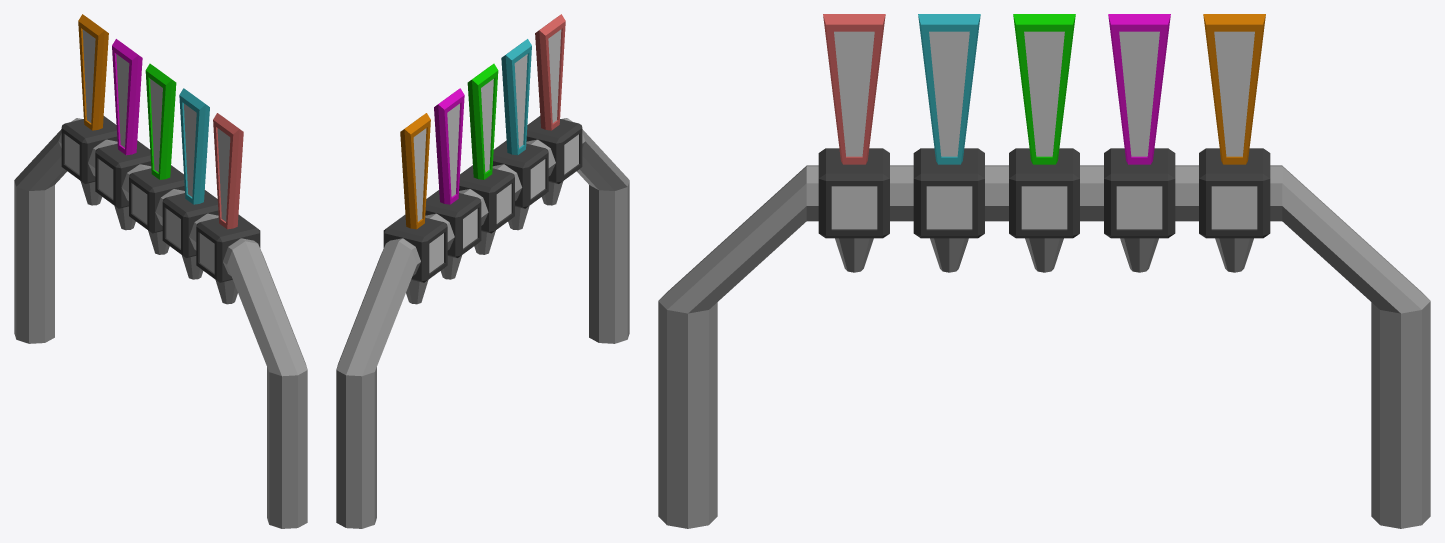
The model's file is Bar Tap Pipes.fbx.
3 views of the same model, side by side, from view 1: azimuth 30°, elevation 25°; view 2: azimuth 150°, elevation 25°; view 3: azimuth 270°, elevation 25° (orthographic). The views are drawn at different scales.
Visible parts, largest first — view 1: Bar Tap Pipes, Cube.005, Cube.009, Cube.007, Cube.003, Cube.001, Bar Tap 1, Bar Tap 2, Bar Tap 5, Bar Tap 4, Bar Tap 3; view 2: Bar Tap Pipes, Cube.009, Cube.005, Cube.007, Cube.003, Cube.001, Bar Tap 5, Bar Tap 4, Bar Tap 1, Bar Tap 2, Bar Tap 3; view 3: Bar Tap Pipes, Bar Tap 5, Bar Tap 1, Bar Tap 4, Bar Tap 2, Bar Tap 3, Cube.003, Cube.005, Cube.001, Cube.009, Cube.007.
Boxes of the visible parts, x1,y1,x2,y2 form: Bar Tap Pipes: [14, 118, 307, 528]; Cube.005: [145, 63, 176, 179]; Cube.009: [112, 39, 142, 155]; Cube.007: [179, 88, 209, 204]; Cube.003: [78, 14, 108, 130]; Cube.001: [213, 113, 243, 229]; Bar Tap 1: [196, 214, 260, 304]; Bar Tap 2: [162, 190, 218, 279]; Bar Tap 5: [61, 116, 117, 205]; Bar Tap 4: [95, 140, 151, 230]; Bar Tap 3: [129, 165, 184, 254]; Bar Tap Pipes: [336, 118, 629, 528]; Cube.009: [434, 88, 464, 204]; Cube.005: [467, 63, 498, 179]; Cube.007: [501, 39, 531, 155]; Cube.003: [400, 113, 430, 229]; Cube.001: [535, 14, 565, 130]; Bar Tap 5: [383, 214, 447, 304]; Bar Tap 4: [425, 190, 481, 279]; Bar Tap 1: [526, 116, 582, 205]; Bar Tap 2: [492, 140, 548, 230]; Bar Tap 3: [459, 165, 514, 254]; Bar Tap Pipes: [658, 165, 1430, 528]; Bar Tap 5: [1199, 148, 1270, 272]; Bar Tap 1: [818, 148, 889, 272]; Bar Tap 4: [1104, 148, 1175, 272]; Bar Tap 2: [913, 148, 984, 272]; Bar Tap 3: [1009, 148, 1079, 272]; Cube.003: [1203, 14, 1265, 164]; Cube.005: [1013, 14, 1075, 164]; Cube.001: [823, 14, 885, 164]; Cube.009: [1108, 14, 1170, 164]; Cube.007: [918, 14, 980, 164].
Bounding box in the file's own units: 60 × 467 × 650.
